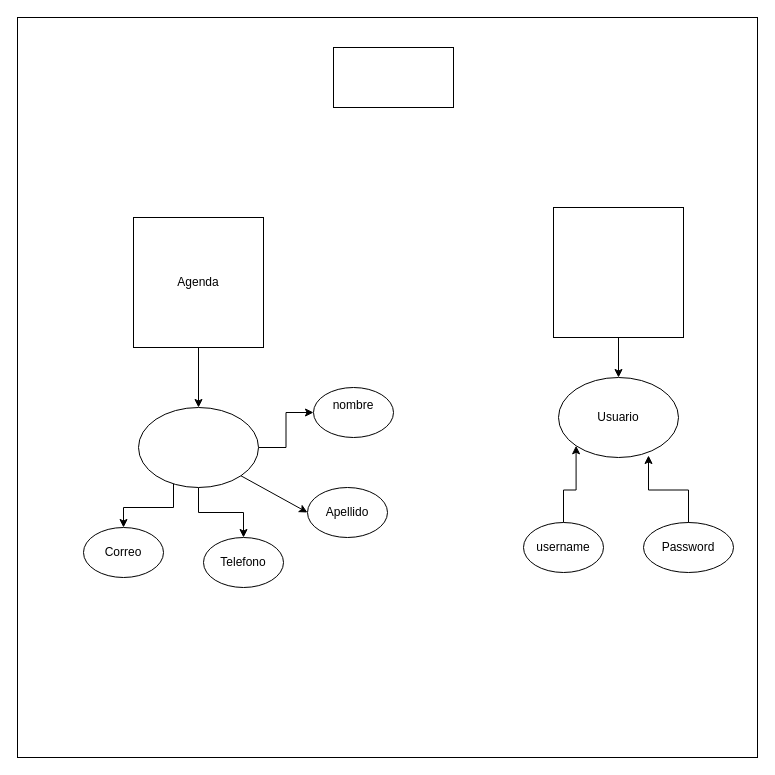
Image size: 775x775. Some labels were removed from this diagram. Here are the shapes that lost their labels. From the top down, the centre of each, then its label:
At (x=393, y=77): "Agenda de contactos".
At (x=618, y=272): "Login".
At (x=198, y=447): "Contactos".
